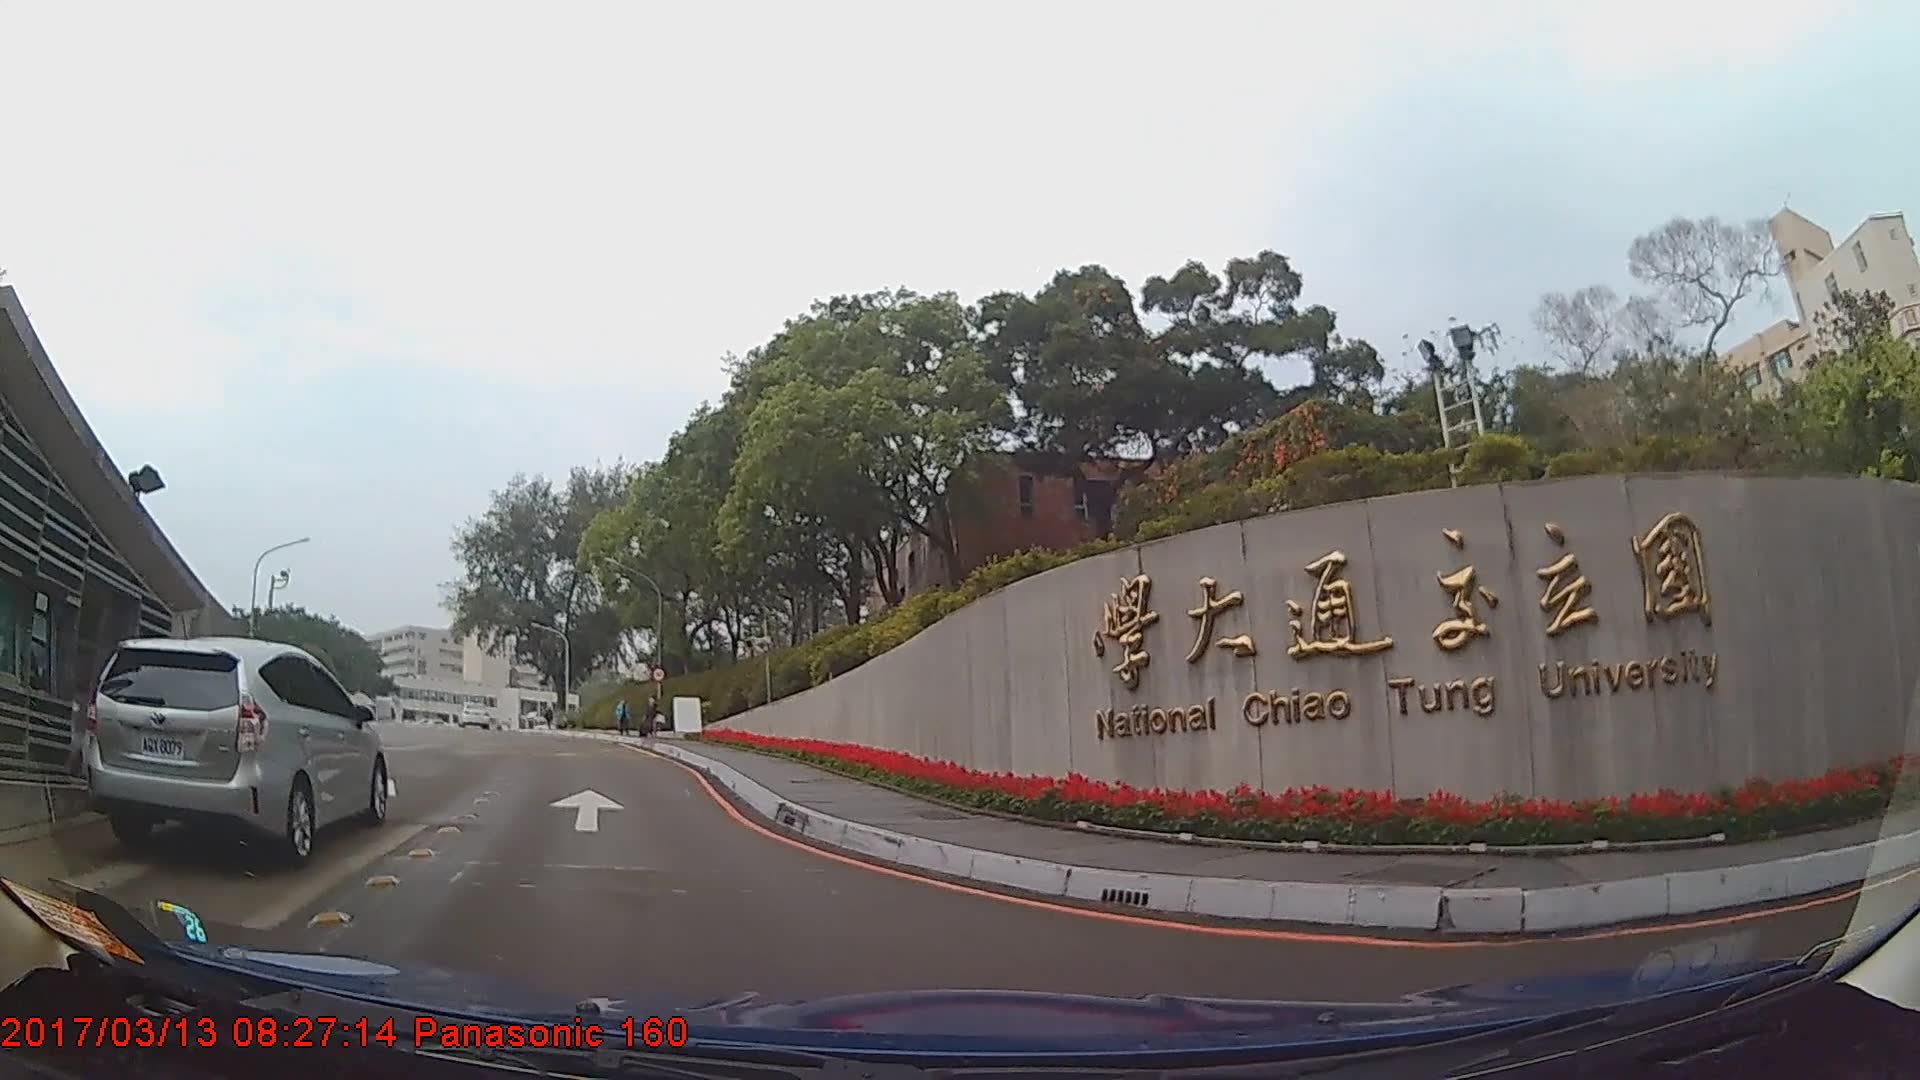vehicle: (80, 633, 386, 858), (454, 700, 491, 729)
